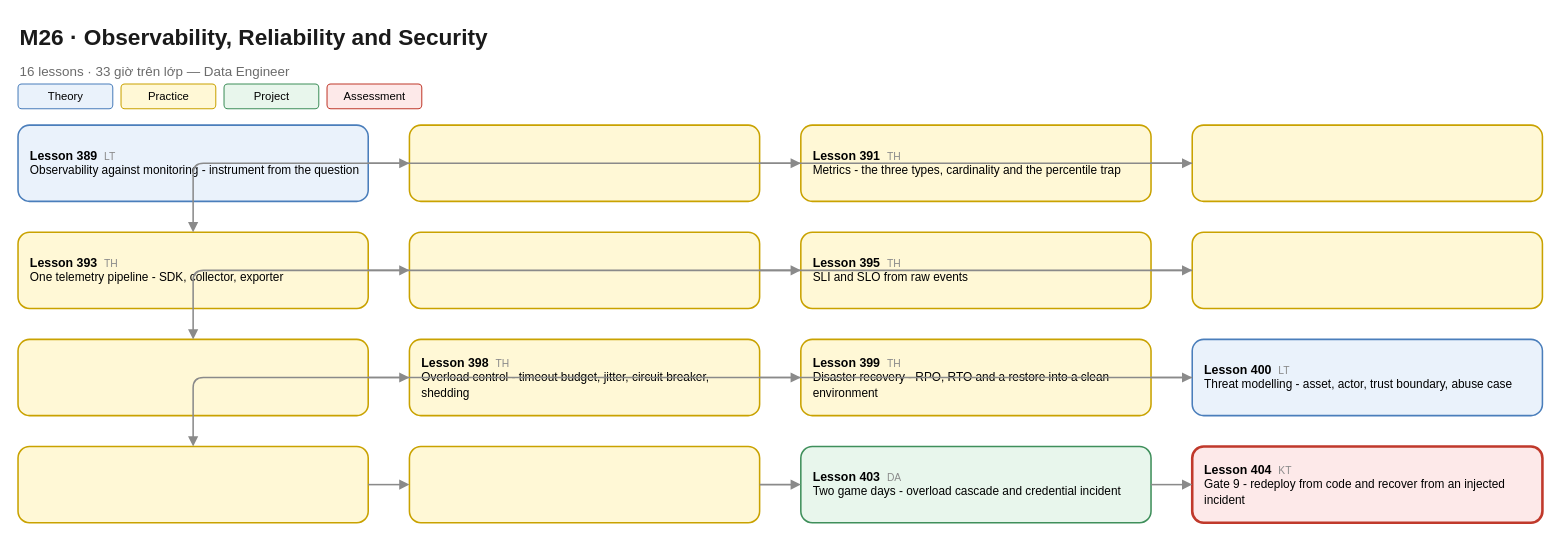
The diagram is 1561 pixels wide and 542 high, and some of its shapes have lost their labels. Here are the shapes that lost their labels. From the top down, the centre of each, then its label:
At point (584, 163): "Lesson 390 TH Logs - structure, correlation, retention and redaction".
At point (1367, 163): "Lesson 392 TH Traces - span, context propagation and the queue boundary".
At point (584, 270): "Lesson 394 TH Dashboard from the user journey".
At point (1367, 270): "Lesson 396 TH Error budget, burn rate and the release decision".
At point (193, 377): "Lesson 397 TH Failure-mode analysis, dependency map and blast radius".
At point (193, 484): "Lesson 401 TH Identity, secrets and key lifecycle in practice".
At point (584, 484): "Lesson 402 TH Supply chain and the secure delivery pipeline".
